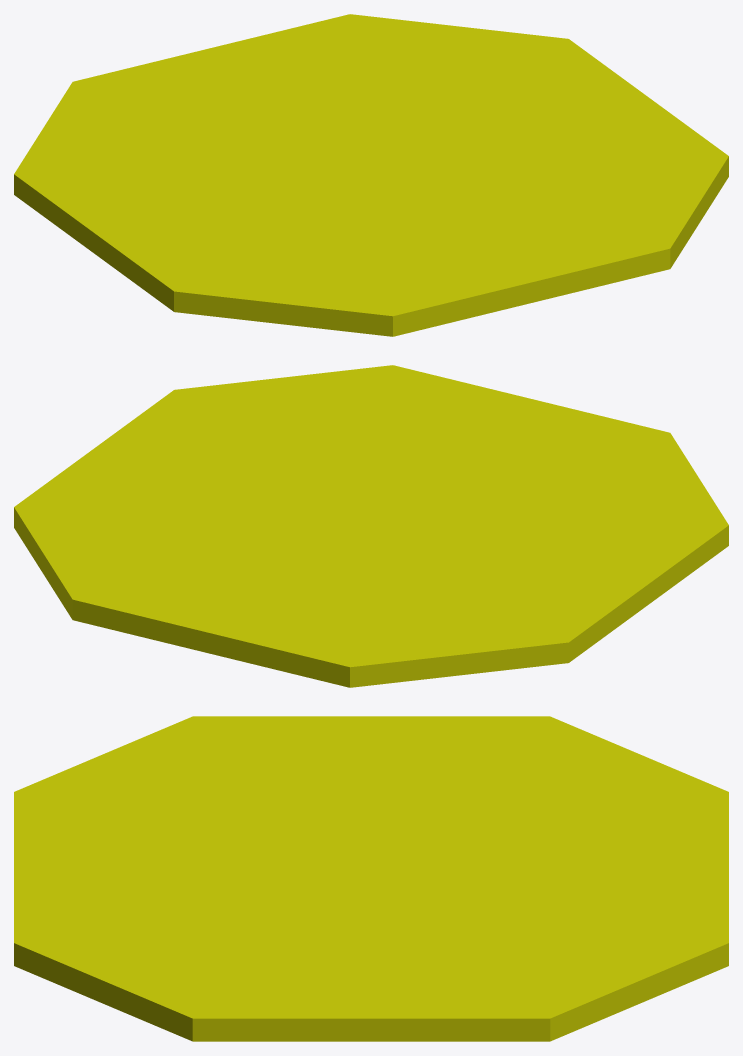
The model's file is target_5.dae.
The picture shows the model from 3 angles, top to bottom: view 1: azimuth 30°, elevation 25°; view 2: azimuth 150°, elevation 25°; view 3: azimuth 270°, elevation 25°; orthographic projection. The views are drawn at different scales.
Visible parts, largest first — view 1: Cube; view 2: Cube; view 3: Cube.
Boxes of the visible parts, box(x1,y1,x2,y2) form: Cube: box(14, 14, 728, 336); Cube: box(14, 365, 728, 687); Cube: box(14, 716, 728, 1041).
Bounding box in the file's own units: 0.5 × 0.5 × 0.0177.
